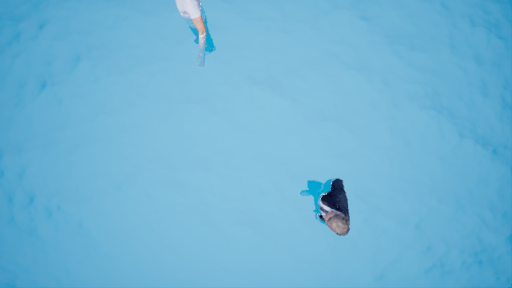person: (301, 169, 352, 236)
